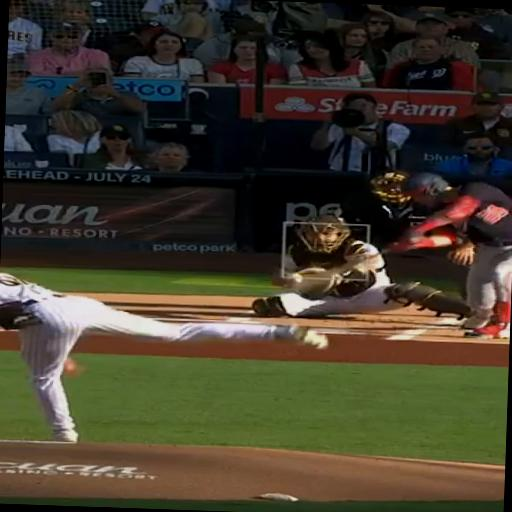bat: (298, 249, 384, 286)
